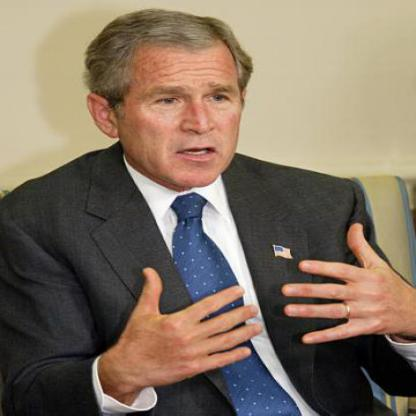face: (113, 16, 250, 192)
